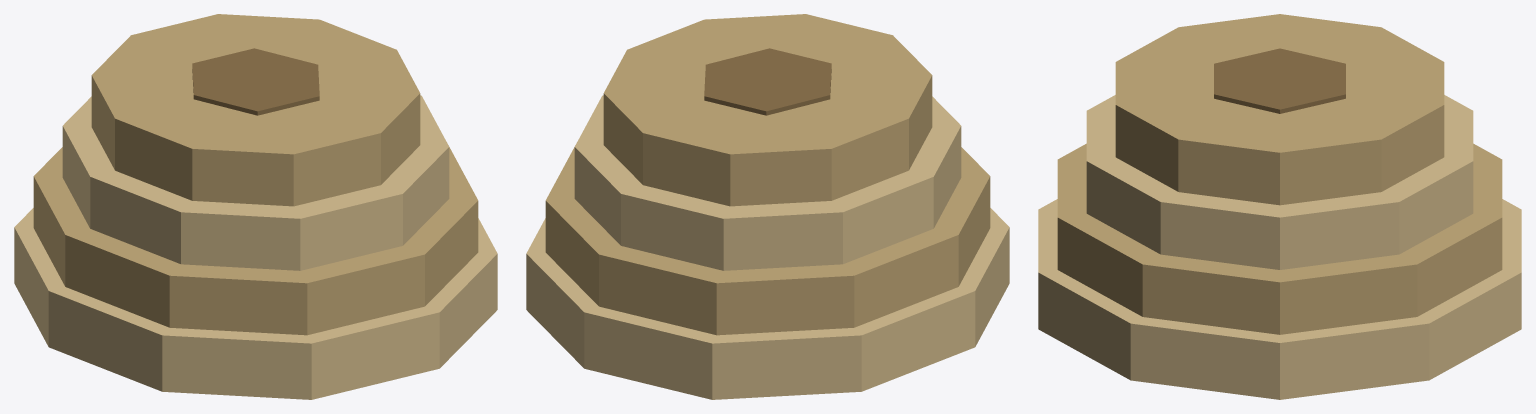
The model's file is env_r13_rope_coil.glb.
The picture shows the model from 3 angles, left to right: view 1: azimuth 30°, elevation 25°; view 2: azimuth 150°, elevation 25°; view 3: azimuth 270°, elevation 25°; orthographic projection.
Visible parts, largest first — view 1: env_r13_rope_coil; view 2: env_r13_rope_coil; view 3: env_r13_rope_coil.
Boxes of the visible parts, x1,y1,x2,y2 form: env_r13_rope_coil: (14, 14, 497, 399); env_r13_rope_coil: (526, 14, 1009, 399); env_r13_rope_coil: (1038, 14, 1521, 399).
Size of the model in its own units: 1 by 0.5 by 1.
Materials: 1 (1 with a texture image).
